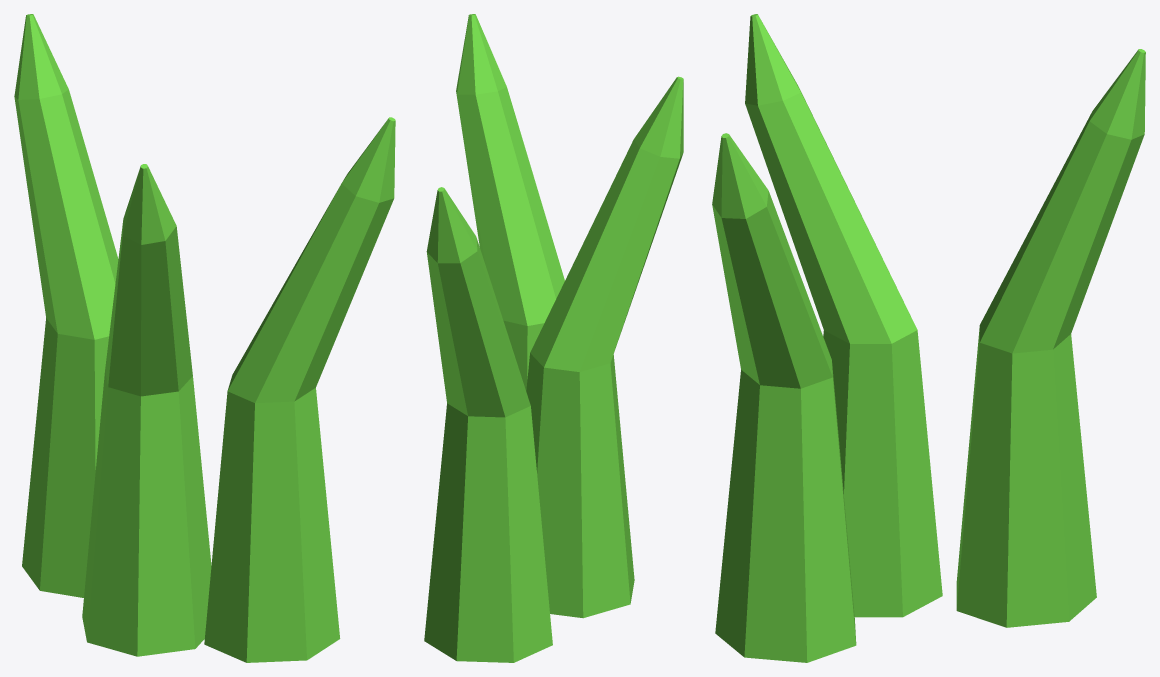
File: Grass.fbx
3 renders of one model, left to right at view 1: azimuth 30°, elevation 25°; view 2: azimuth 150°, elevation 25°; view 3: azimuth 270°, elevation 25°, orthographic. The views are drawn at different scales.
Visible parts, largest first — view 1: Cylinder; view 2: Cylinder; view 3: Cylinder.
Part boxes in pixels (x1,y1,x2,y2): Cylinder: (14,14,395,662); Cylinder: (424,14,683,662); Cylinder: (712,14,1145,662).
Bounding box in the file's own units: 0.616 × 1.21 × 0.8711.
